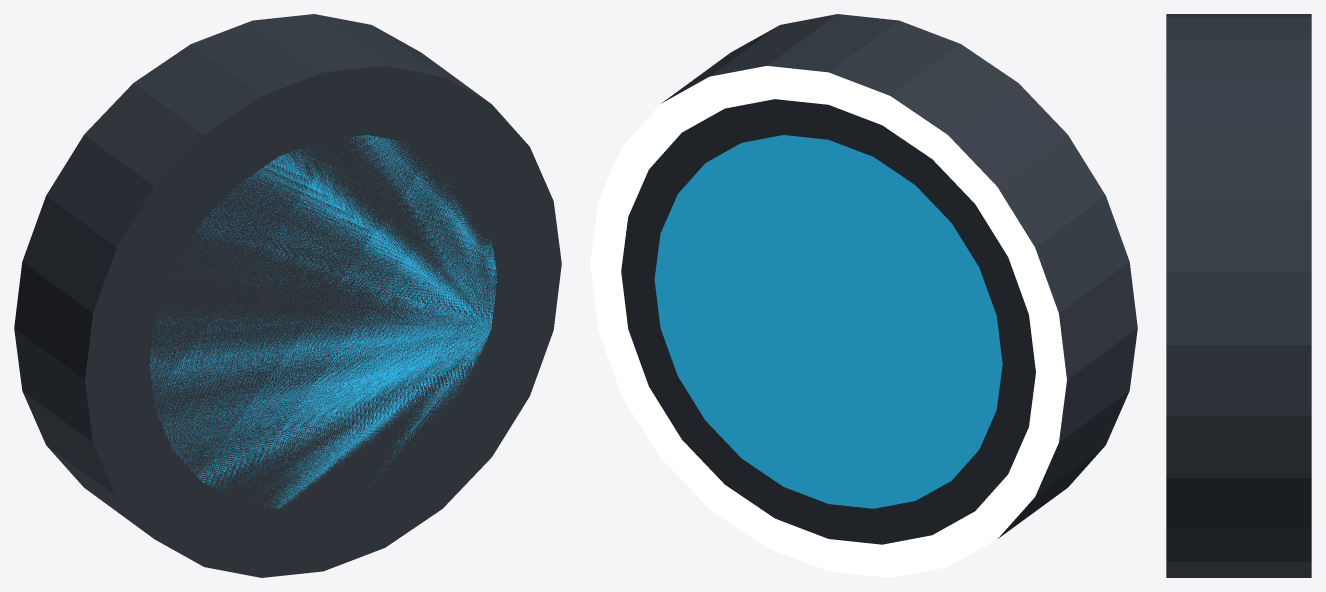
The picture shows the model from 3 angles, left to right: view 1: azimuth 30°, elevation 25°; view 2: azimuth 150°, elevation 25°; view 3: azimuth 270°, elevation 25°; orthographic projection. The views are drawn at different scales.
Visible parts, largest first — view 1: any-note/circle-v1; view 2: any-note/circle-v1; view 3: any-note/circle-v1.
Boxes of the visible parts, x1,y1,x2,y2 form: any-note/circle-v1: [14, 14, 561, 577]; any-note/circle-v1: [590, 14, 1137, 577]; any-note/circle-v1: [1166, 14, 1311, 577].
Size of the model in its own units: 0.7 by 0.7 by 0.18.
